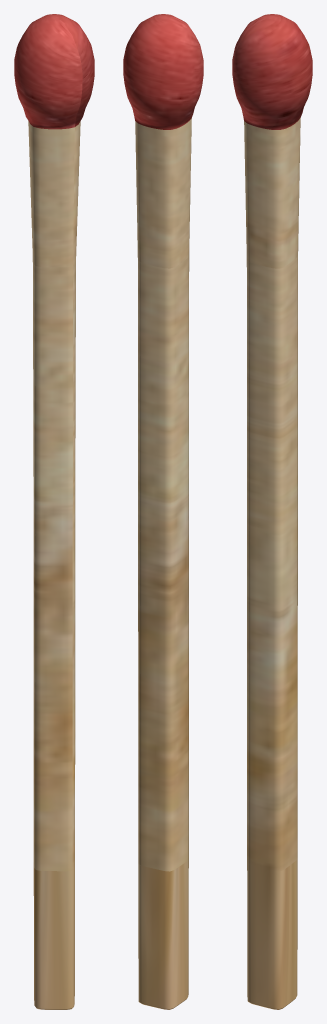
File: match.fbx
3 renders of one model, left to right at view 1: azimuth 90°, elevation 25°; view 2: azimuth 150°, elevation 25°; view 3: azimuth 330°, elevation 25°, orthographic.
Visible parts, largest first — view 1: match; view 2: match; view 3: match.
Boxes of the visible parts, <box> form: match: <box>14,14,94,1009</box>; match: <box>123,14,203,1009</box>; match: <box>232,14,312,1009</box>.
Bounding box in the file's own units: 0.5334 × 7.19 × 0.5334.
